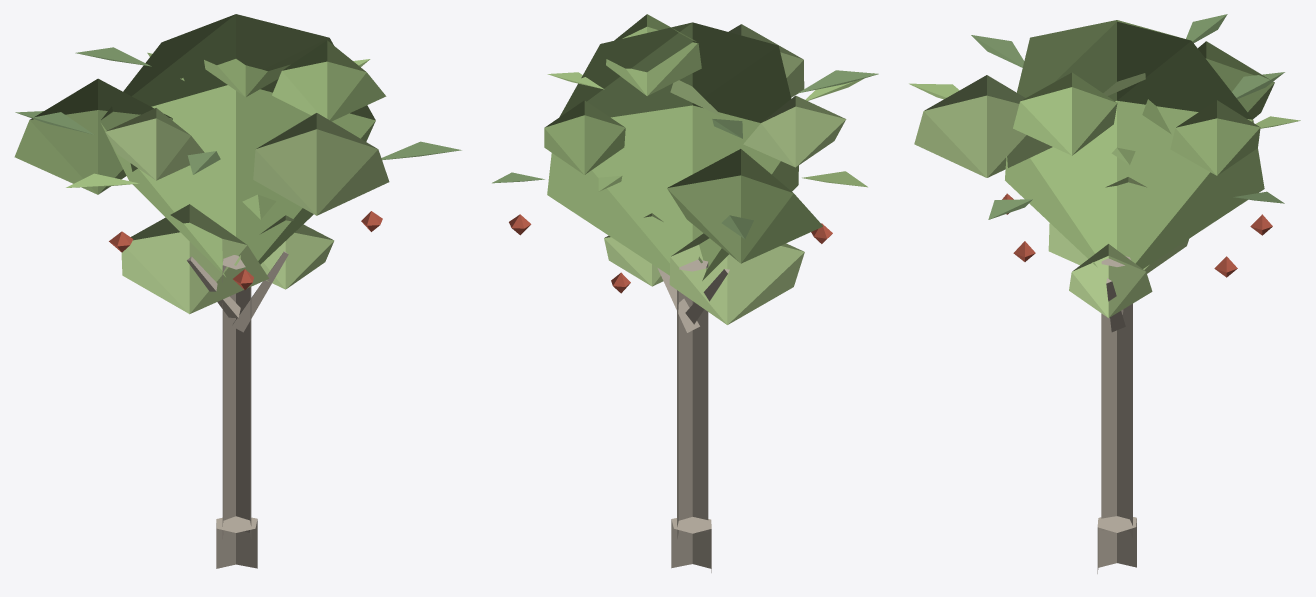
Rendered from shu.chuizhi@fruiting__bloom.glb.
The picture shows the model from 3 angles, left to right: view 1: azimuth 30°, elevation 25°; view 2: azimuth 150°, elevation 25°; view 3: azimuth 270°, elevation 25°; orthographic projection.
Parts seen in each view (by area): view 1: shu.chuizhi@fruiting__bloom; view 2: shu.chuizhi@fruiting__bloom; view 3: shu.chuizhi@fruiting__bloom.
Boxes of the visible parts, left/top/right/bottom form: shu.chuizhi@fruiting__bloom: left=14, top=14, right=461, bottom=568; shu.chuizhi@fruiting__bloom: left=492, top=14, right=878, bottom=572; shu.chuizhi@fruiting__bloom: left=909, top=14, right=1300, bottom=573.
Bounding box in the file's own units: 6.6 × 10.27 × 6.62.
